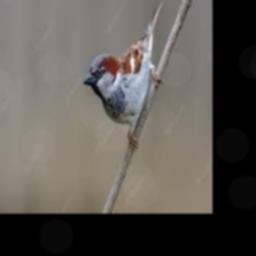Sparrow: (83, 1, 163, 151)
